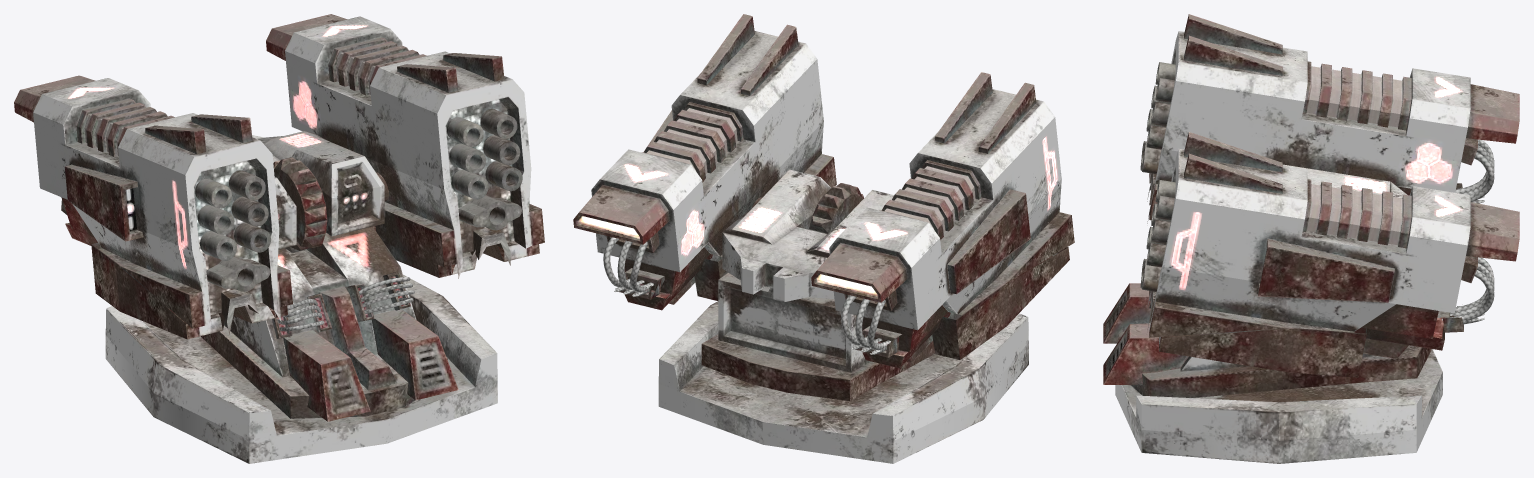
File: missile_turret.glb
The picture shows the model from 3 angles, left to right: view 1: azimuth 30°, elevation 25°; view 2: azimuth 150°, elevation 25°; view 3: azimuth 270°, elevation 25°; orthographic projection. The views are drawn at different scales.
Parts seen in each view (by area): view 1: turret-barrel, turret-base; view 2: turret-barrel, turret-base; view 3: turret-barrel, turret-base.
Part boxes in pixels (x1,y1,x2,y2): turret-barrel: (14,14,544,334); turret-base: (61,197,539,463); turret-barrel: (573,14,1074,352); turret-base: (614,247,1069,463); turret-barrel: (1140,14,1519,338); turret-base: (1103,183,1484,463).
Size of the model in its own units: 0.9635 by 0.7944 by 0.9711.
Materials: 1 (1 with a texture image).
